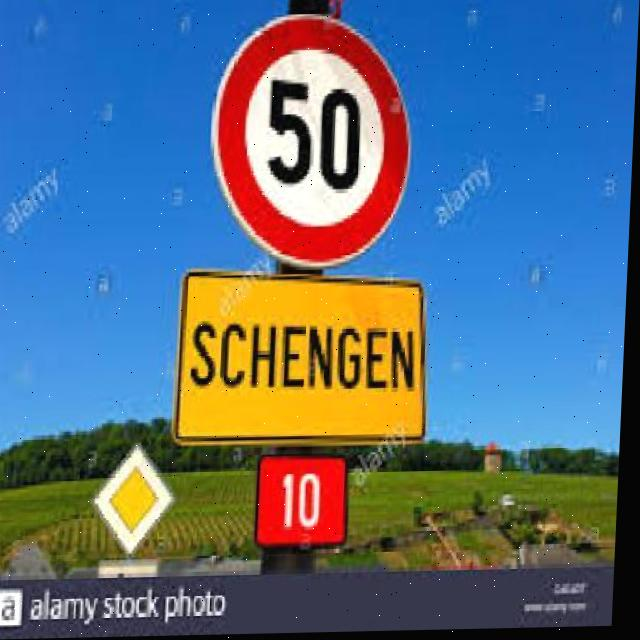Speed limit 50: (205, 9, 420, 273)
